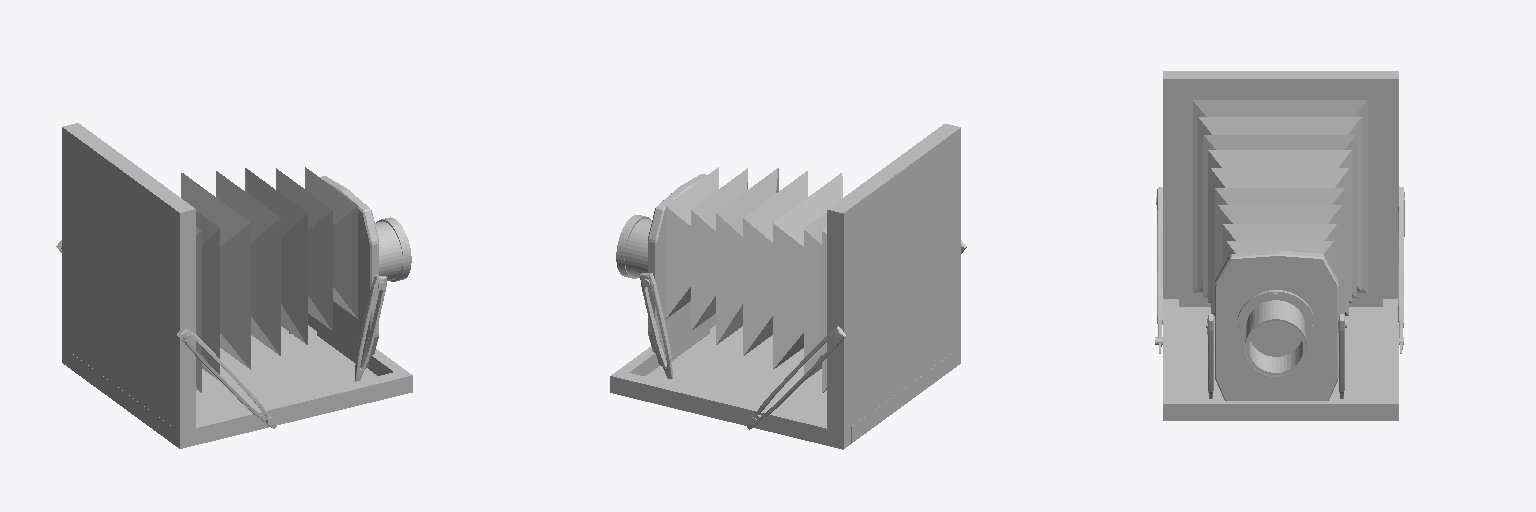
Rendered from camera.obj.
3 renders of one model, left to right at view 1: azimuth 30°, elevation 25°; view 2: azimuth 150°, elevation 25°; view 3: azimuth 270°, elevation 25°, orthographic.
Visible parts, largest first — view 1: pCube2, pPlane1, pCube1, pPlane2, group1 pCylinder6, polySurface3, polySurface1; view 2: pCube2, pPlane1, pCube1, pPlane2, group1 pCylinder6, polySurface4, polySurface2; view 3: pPlane1, pCube2, pCube1, pPlane2, group1 pCylinder6, pCylinder5 group1, polySurface2, polySurface1.
Boxes of the visible parts, <box> form: pCube2: <box>62,123,195,448</box>; pPlane1: <box>181,167,357,392</box>; pCube1: <box>64,314,412,448</box>; pPlane2: <box>314,176,378,368</box>; group1 pCylinder6: <box>375,217,411,281</box>; polySurface3: <box>355,275,387,381</box>; polySurface1: <box>177,326,276,428</box>; pCube2: <box>827,123,960,448</box>; pPlane1: <box>666,167,842,392</box>; pCube1: <box>610,314,959,449</box>; pPlane2: <box>648,174,712,366</box>; group1 pCylinder6: <box>616,215,651,278</box>; polySurface4: <box>640,273,672,378</box>; polySurface2: <box>747,326,845,429</box>; pPlane1: <box>1193,100,1367,315</box>; pCube2: <box>1163,71,1398,306</box>; pCube1: <box>1163,299,1398,420</box>; pPlane2: <box>1215,251,1338,400</box>; group1 pCylinder6: <box>1245,300,1306,376</box>; pCylinder5 group1: <box>1237,290,1314,348</box>; polySurface2: <box>1398,187,1404,353</box>; polySurface1: <box>1157,187,1162,353</box>.
Size of the model in its own units: 33.83 by 27.81 by 26.47.